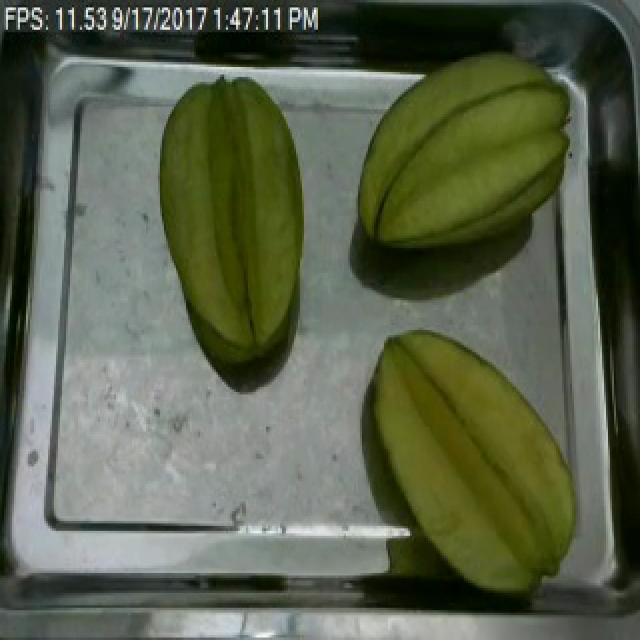fruit: (360, 308, 588, 605), (146, 70, 322, 380), (342, 42, 582, 261)
